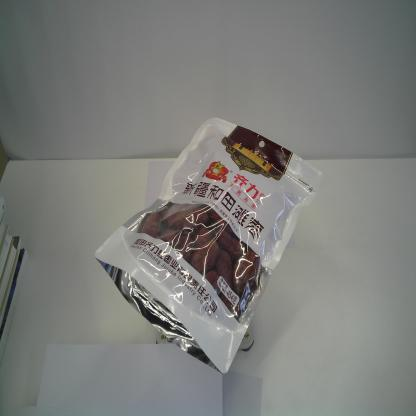Dried Food: (93, 115, 325, 378)
